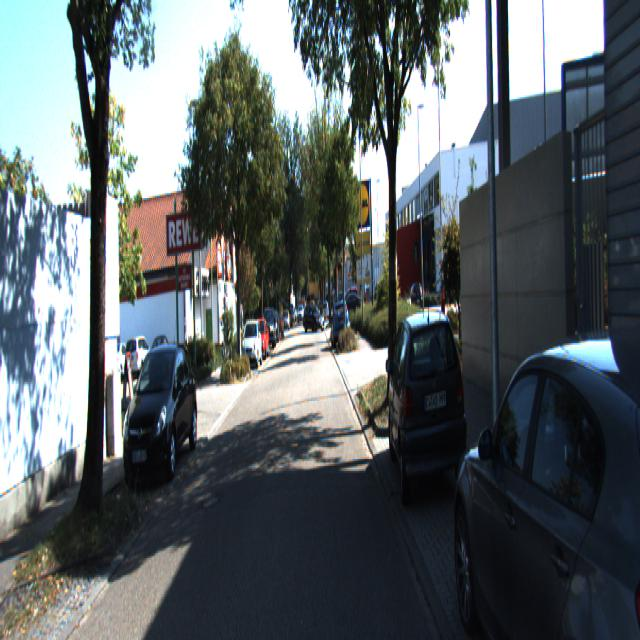Car: (448, 314, 640, 638), (385, 301, 470, 501), (121, 334, 199, 486), (124, 334, 156, 379), (148, 334, 176, 380), (241, 319, 262, 370), (332, 298, 350, 346), (251, 318, 270, 361)
